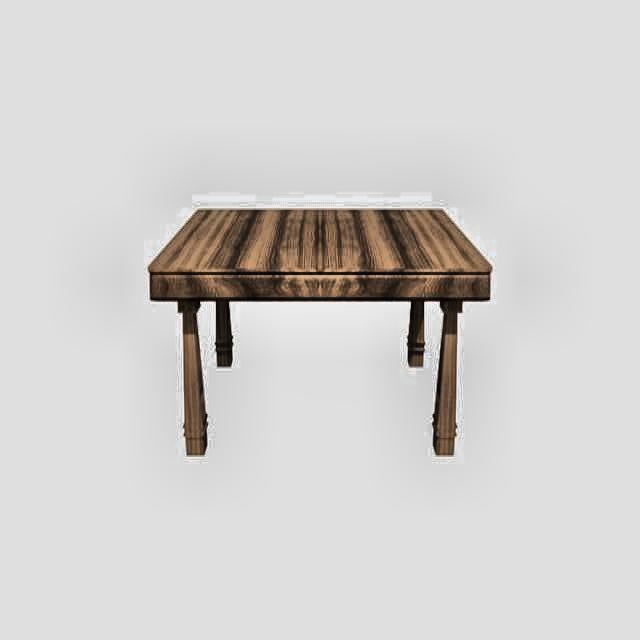mesa: (149, 204, 491, 458)
